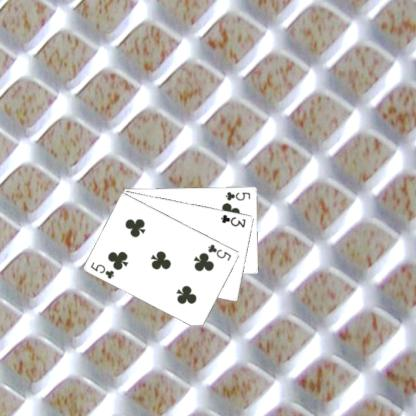3C: (218, 212, 248, 228)
5C: (88, 259, 116, 280), (206, 242, 233, 262), (224, 189, 252, 202)
